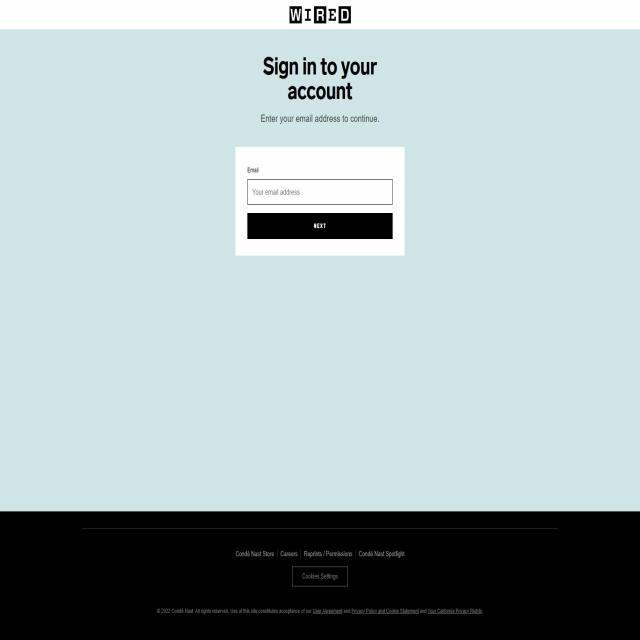button: (247, 212, 393, 241)
input: (247, 177, 394, 206)
